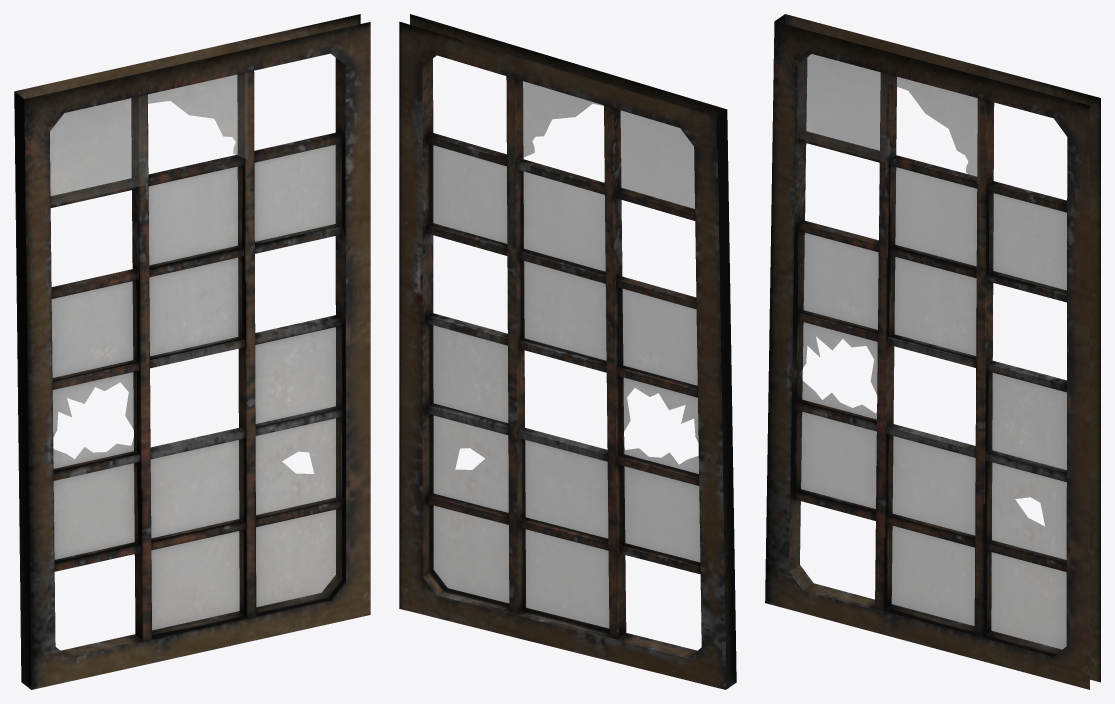
Rendered from IntBalDoor.FBX.
3 views of the same model, side by side, from view 1: azimuth 30°, elevation 25°; view 2: azimuth 150°, elevation 25°; view 3: azimuth 330°, elevation 25° (orthographic).
Parts seen in each view (by area): view 1: IntBalDoor; view 2: IntBalDoor; view 3: IntBalDoor.
Part boxes in pixels (x1=…): IntBalDoor: x1=14, y1=14, x2=370, y2=689; IntBalDoor: x1=399, y1=14, x2=736, y2=689; IntBalDoor: x1=765, y1=14, x2=1100, y2=689.
Size of the model in its own units: 139 by 236 by 16.94.
